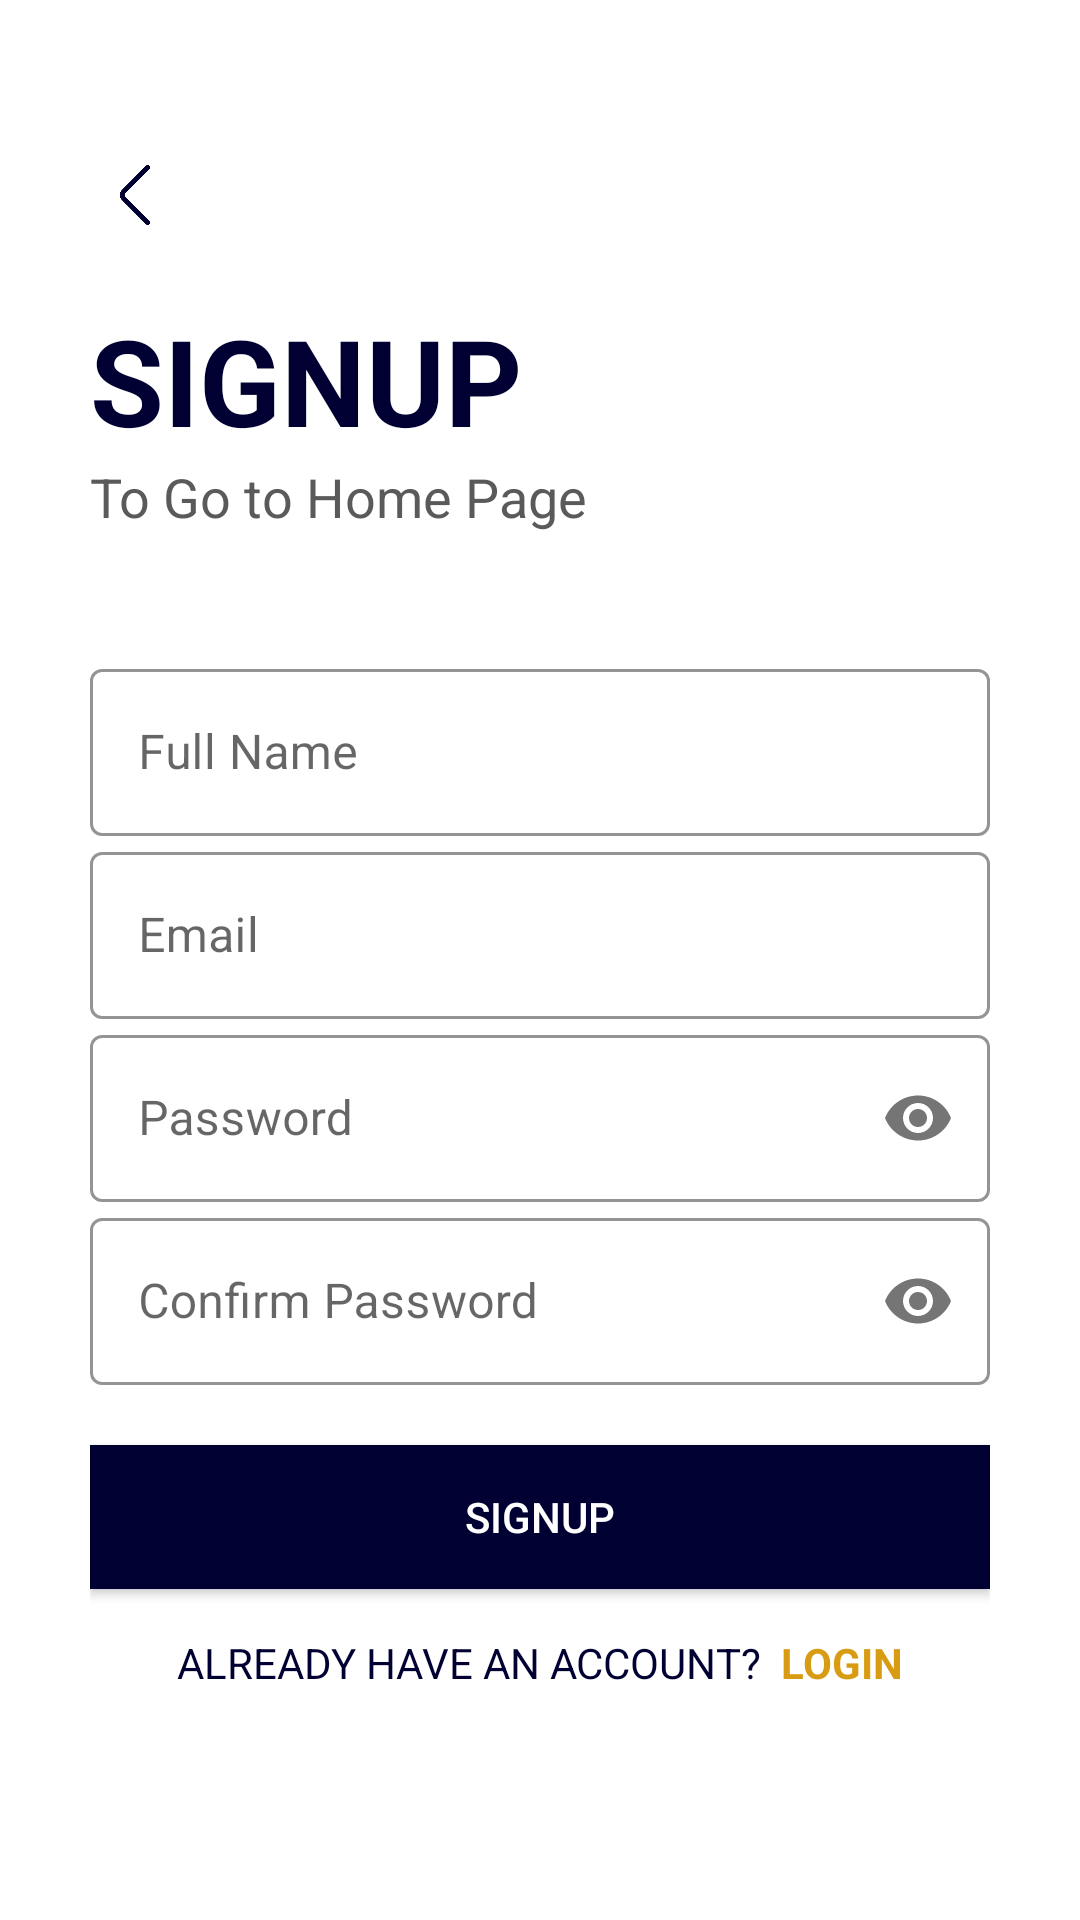

Screen size 1080px×1920px. Icon name, then its center in pixels as (x=x, y=y):
leftarrow: (x=135, y=195)
